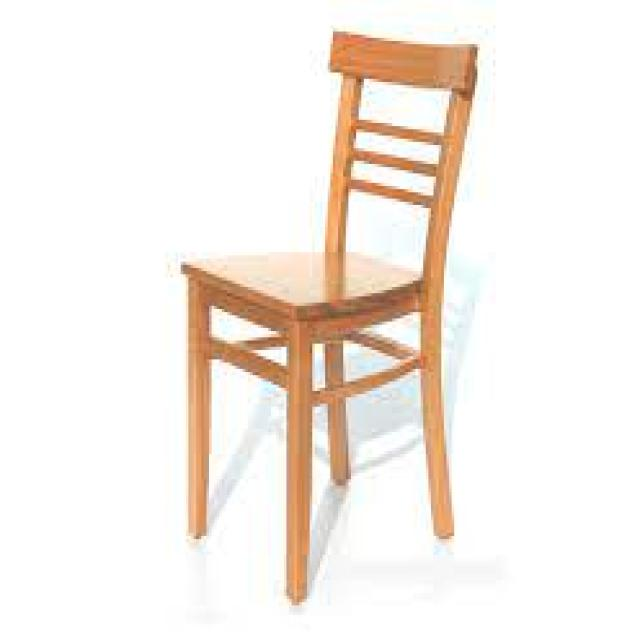bottle: (176, 33, 480, 614)
